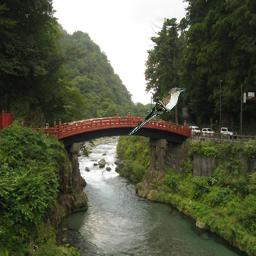Cuckoo: (127, 87, 186, 137)
